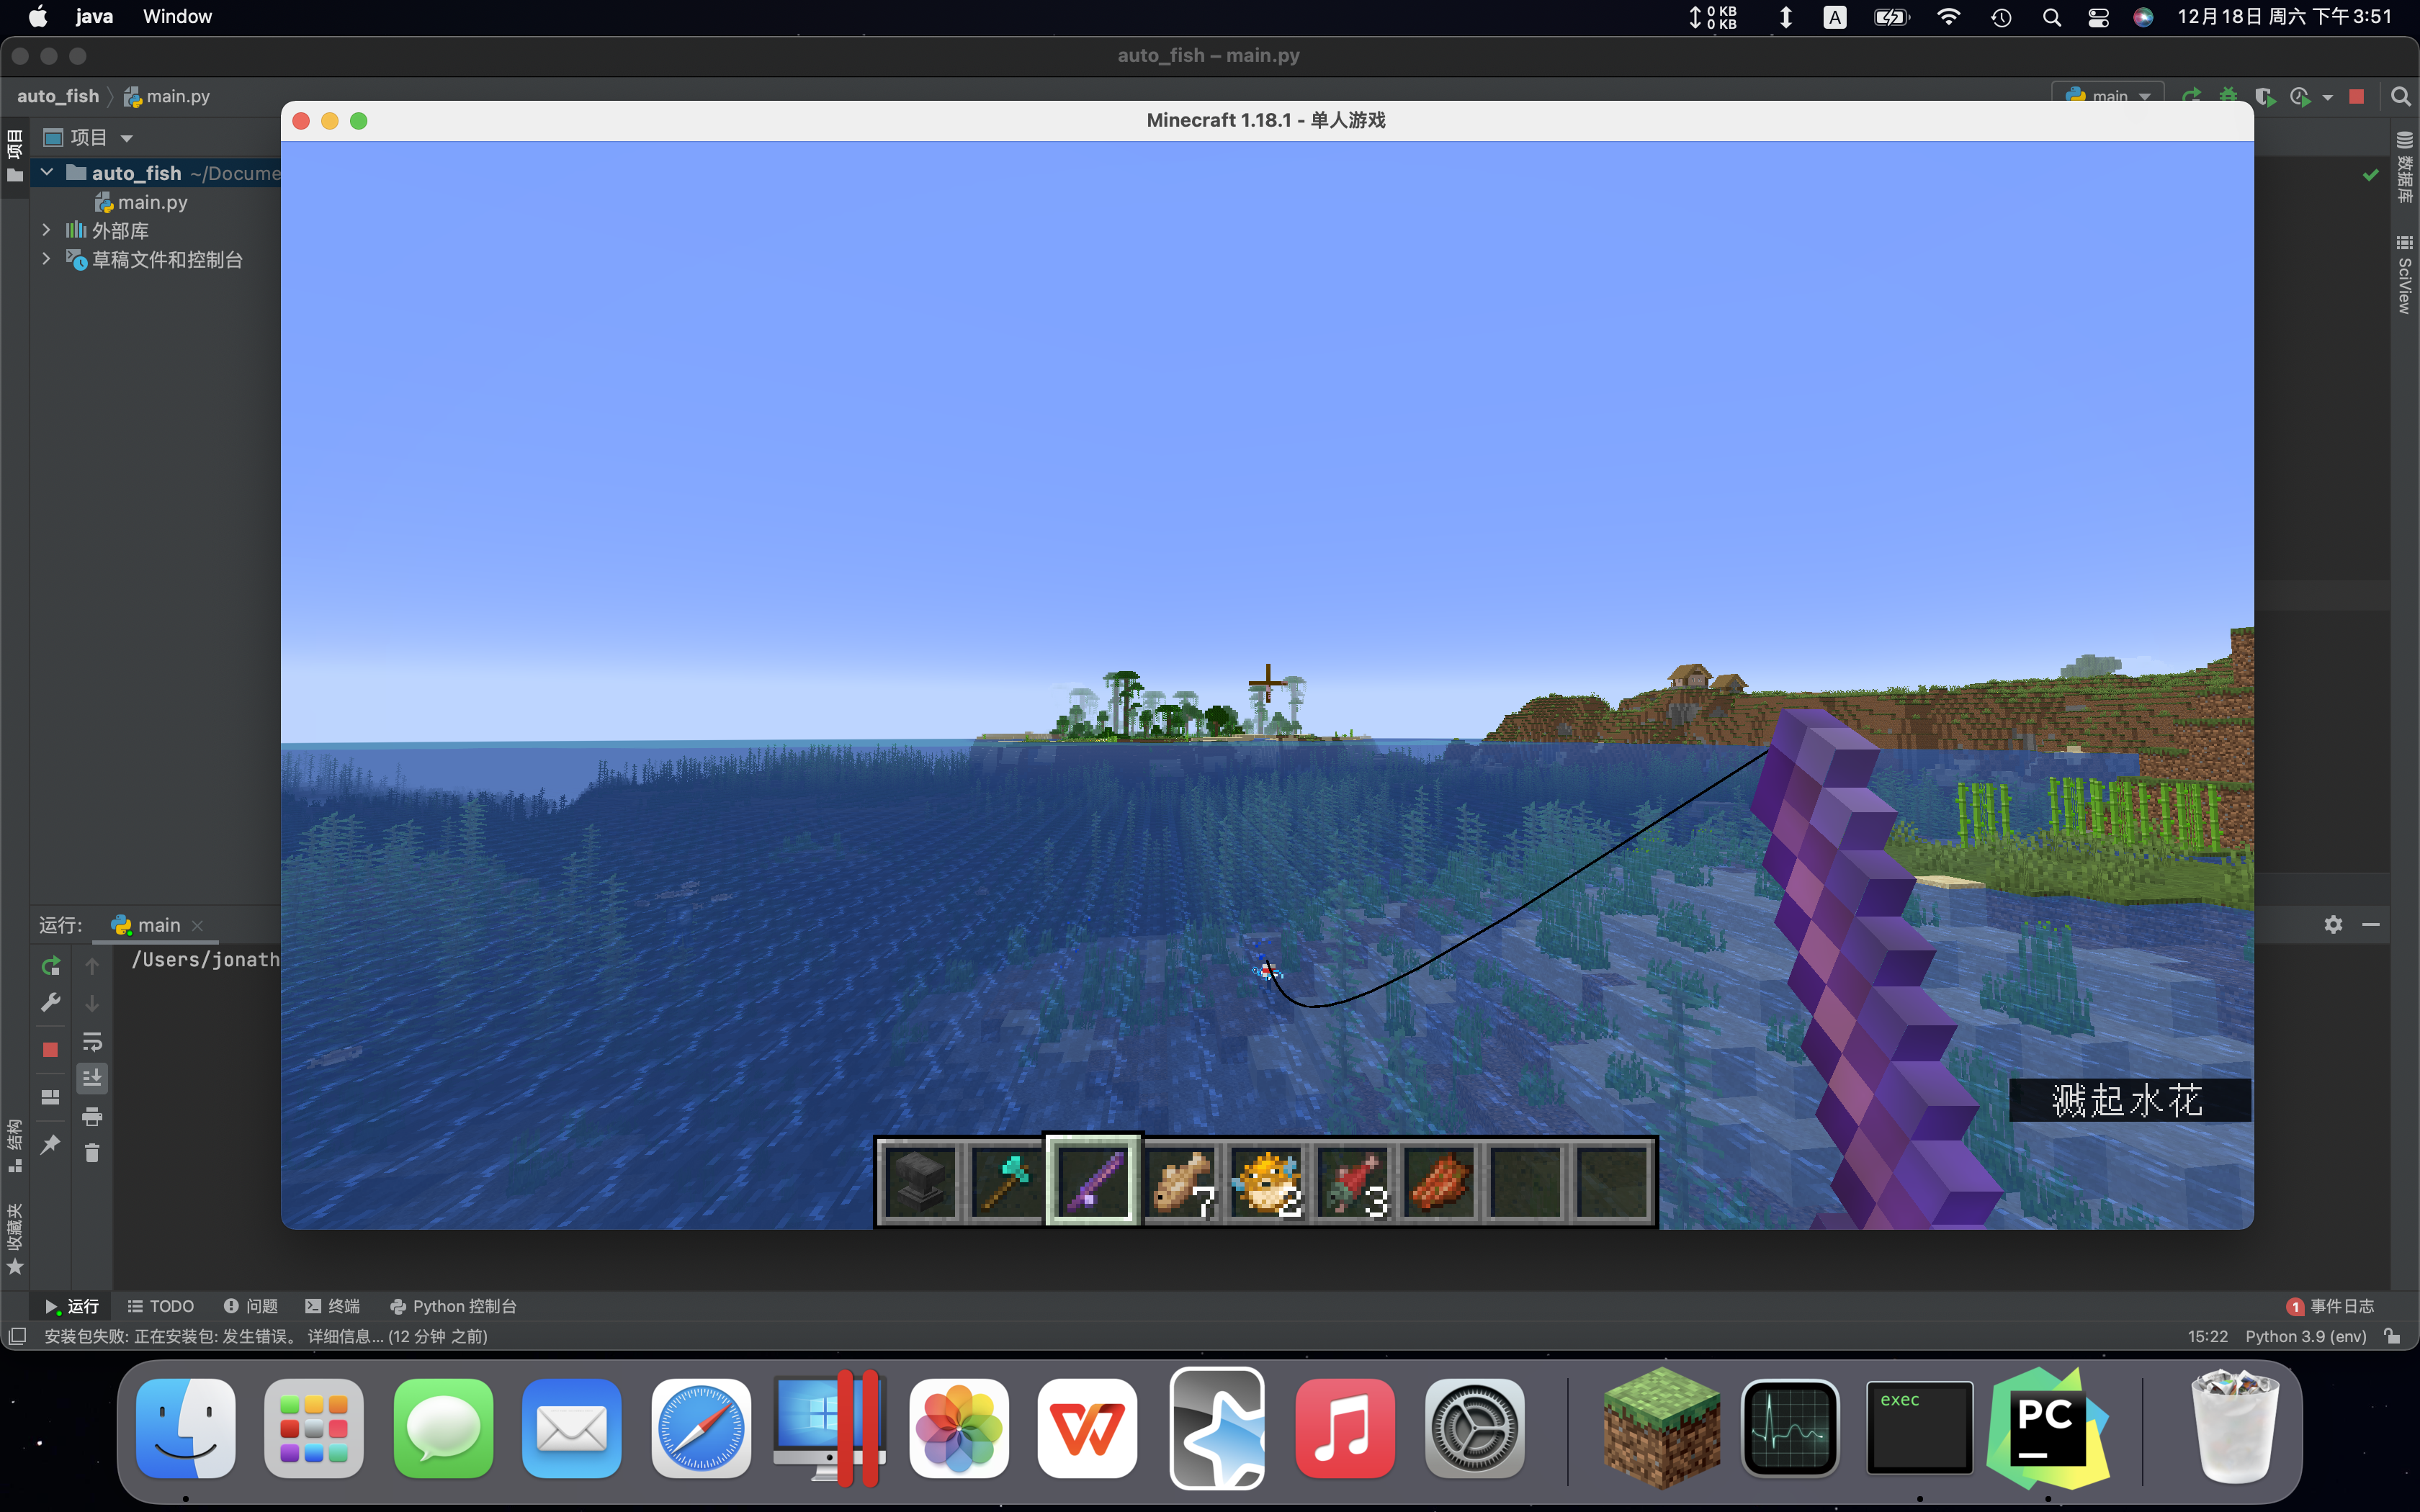inf: (2011, 1077, 2251, 1122)
